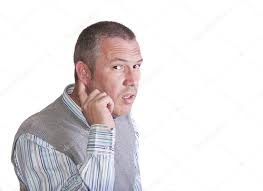white_male: (87, 37, 143, 121)
